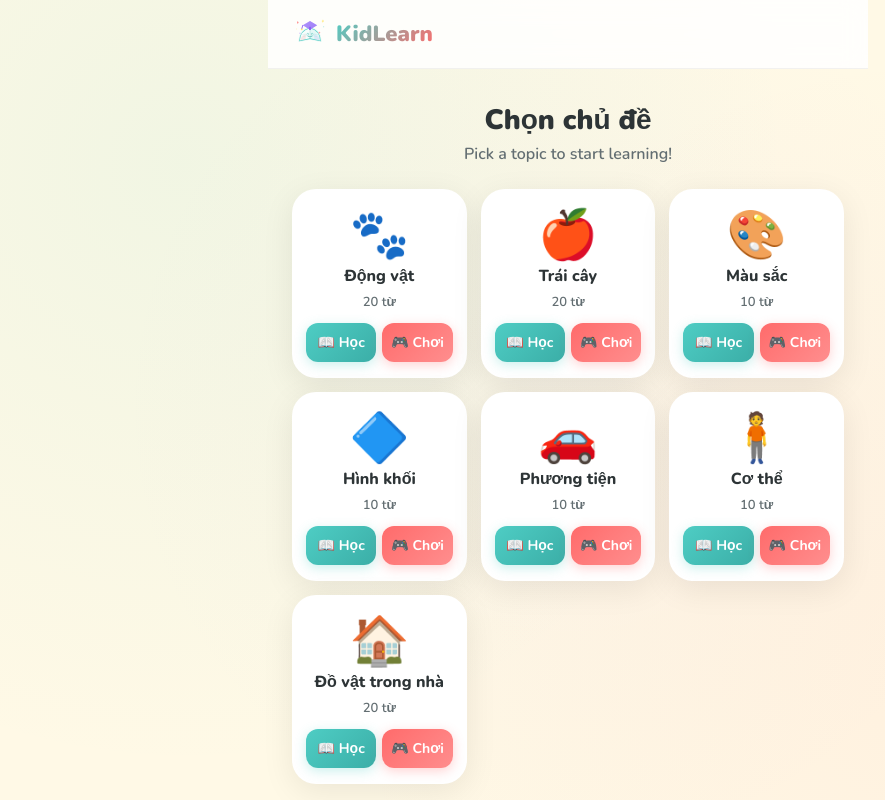
Test: App component › should navigate to quiz mode when Chơi is clicked
What coordinates should you click on to do the following:
click the button "🎮 Chơi" below "Động vật"
I would click on:
 (417, 342)
Its box is top-left (382, 323), bottom-right (453, 362).
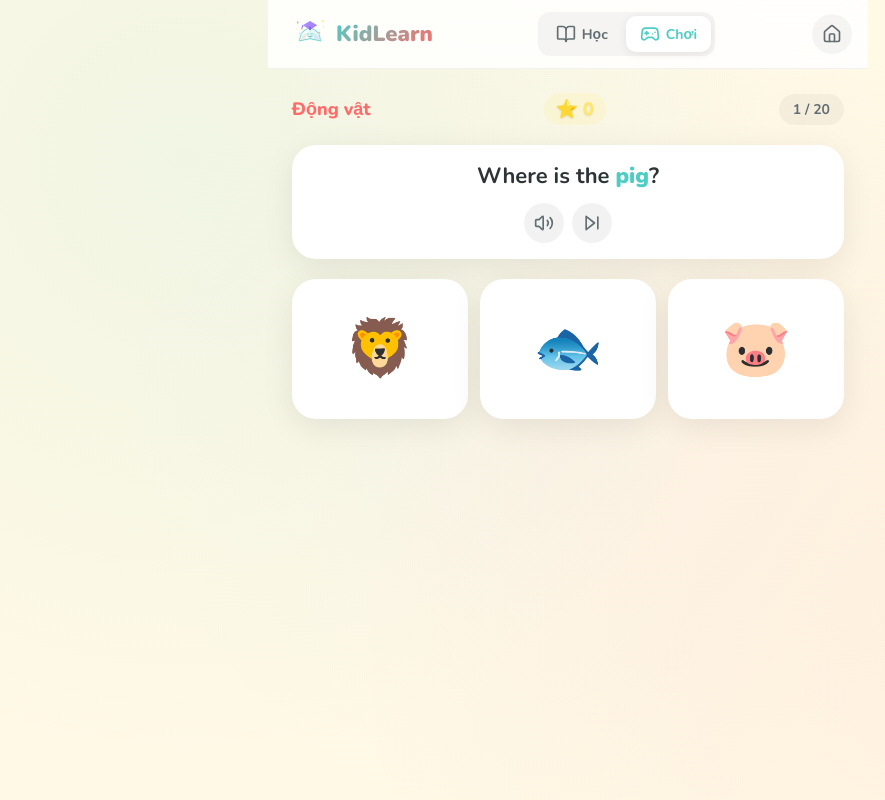
Check: the text "Where is the pig?" is shown, box top-left (477, 161), bottom-right (659, 191)
Check: the text "⭐ 0" is shown, box top-left (544, 93), bottom-right (606, 125)
